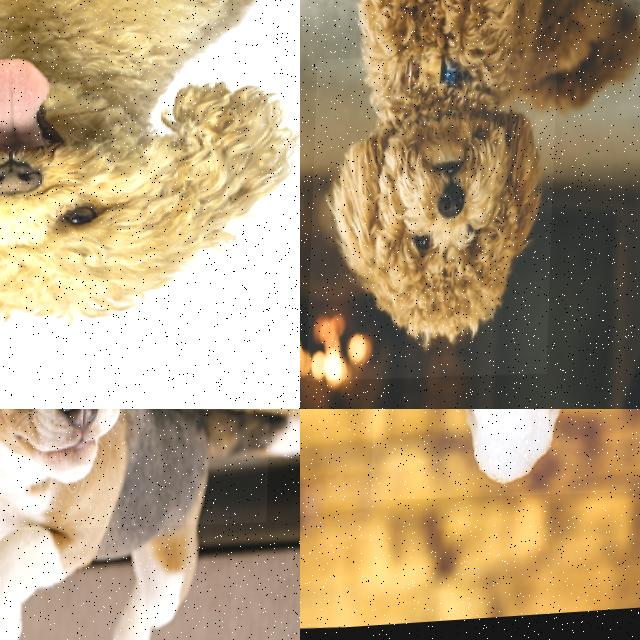beagle: (0, 409, 278, 550), (370, 409, 640, 513)
poodle: (0, 11, 300, 391), (306, 49, 558, 392)
